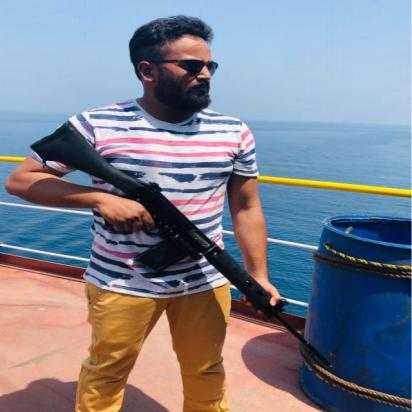Gun: (27, 120, 336, 371)
